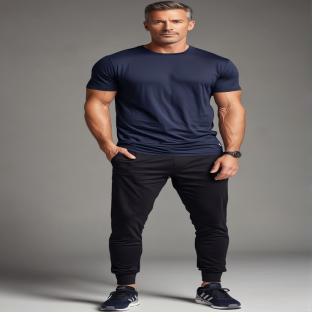Human: (85, 1, 244, 310)
